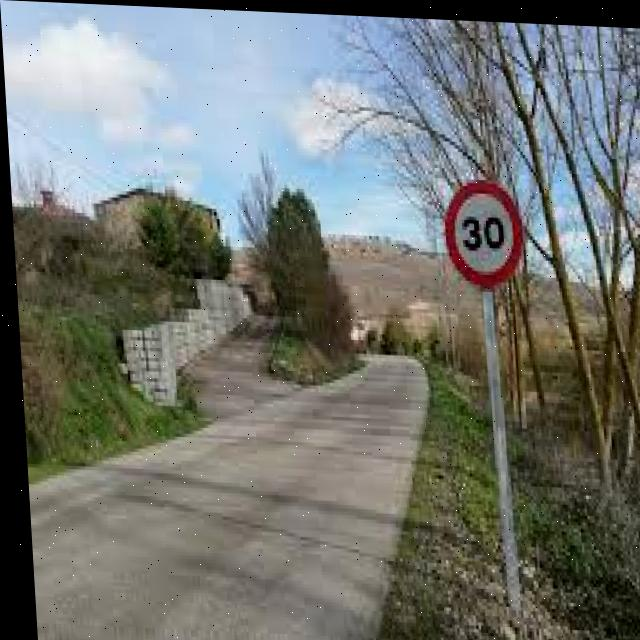Speed limit 30: (437, 168, 526, 286)
